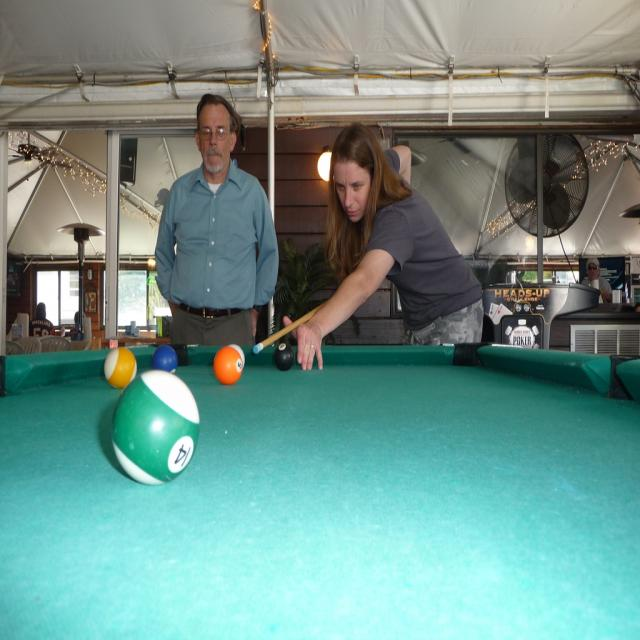Ball: (110, 368, 198, 484), (104, 346, 136, 392), (217, 349, 241, 382), (152, 348, 177, 373), (230, 343, 244, 367)
Billiard table: (0, 342, 639, 639)
